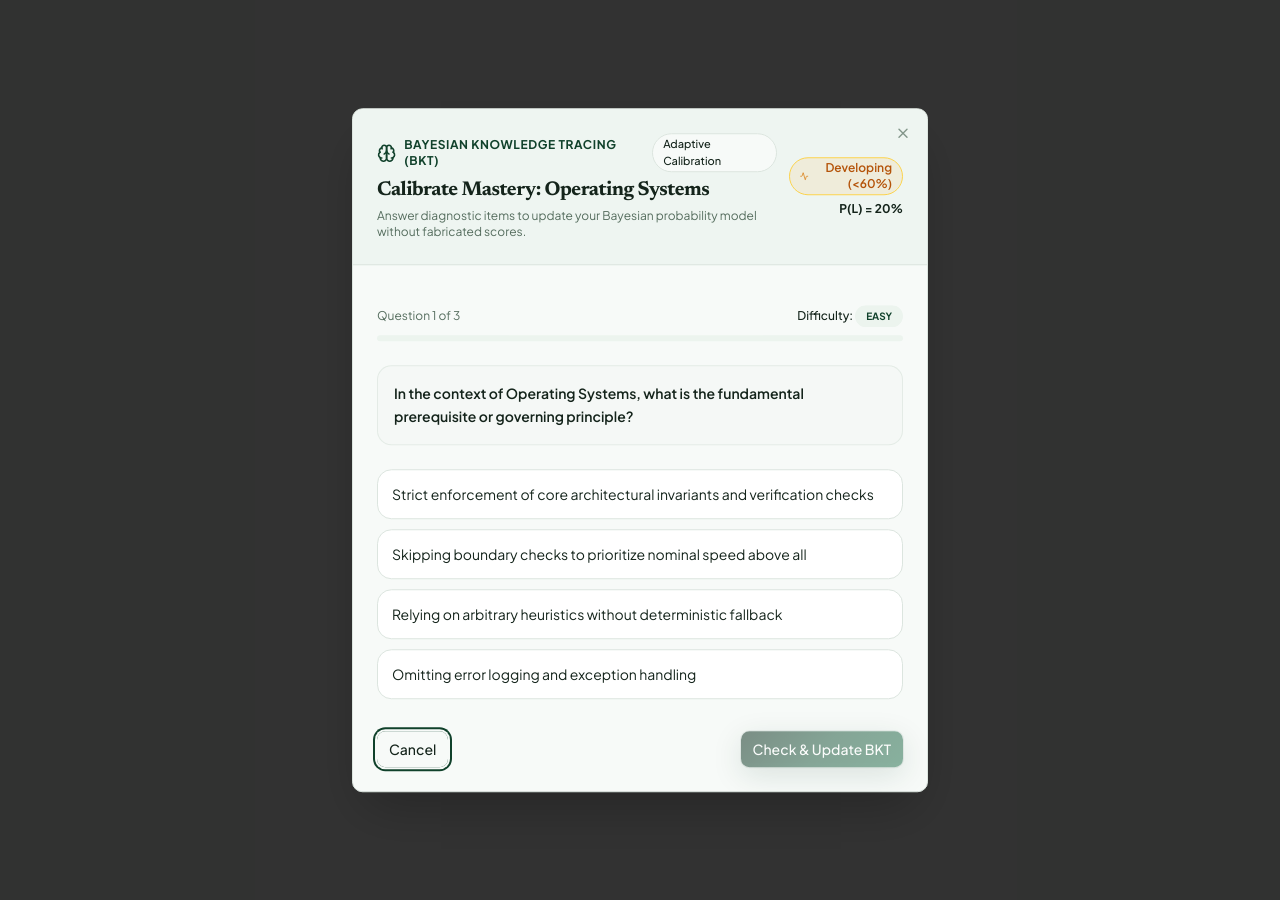
Learning Progress Bayesian Knowledge Tracing (BKT) Integration › SkillBKTQuickAssessmentModal updates Bayesian probability upon answering question
Expected: the text "P(L) = 20%" is shown, 839,201 -> 903,216
// Click first option (correct option in question 1)
What coordinates should you click on to do the following:
click the text "Strict enforcement of core architectural invariants and verification checks"
I would click on:
 (640, 494)
Its box is 392,484 -> 888,504.
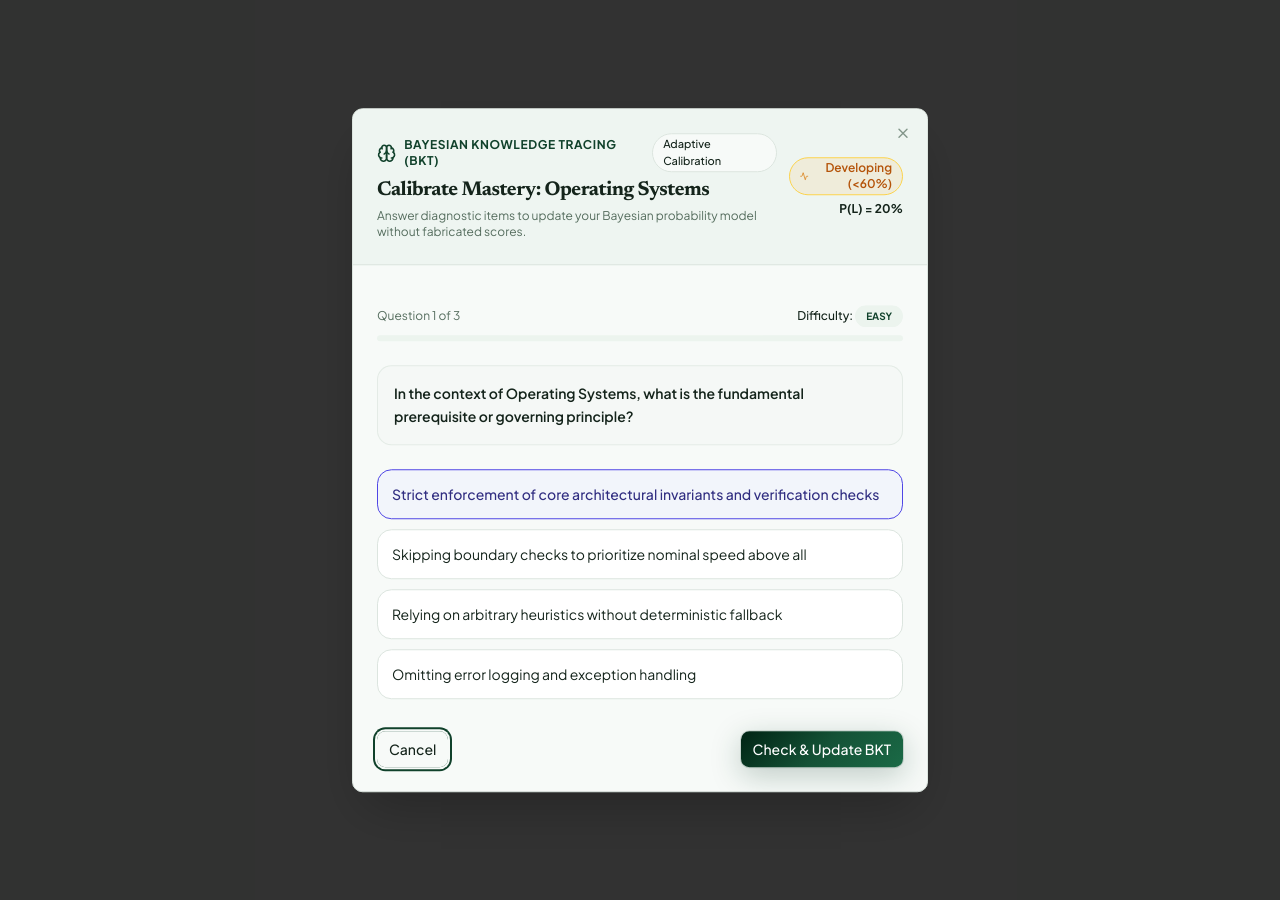
// Click "Check & Update BKT"
What coordinates should you click on to do the following:
click the button "Check & Update BKT"
I would click on:
 (822, 749)
Its box is 741,731 -> 903,767.
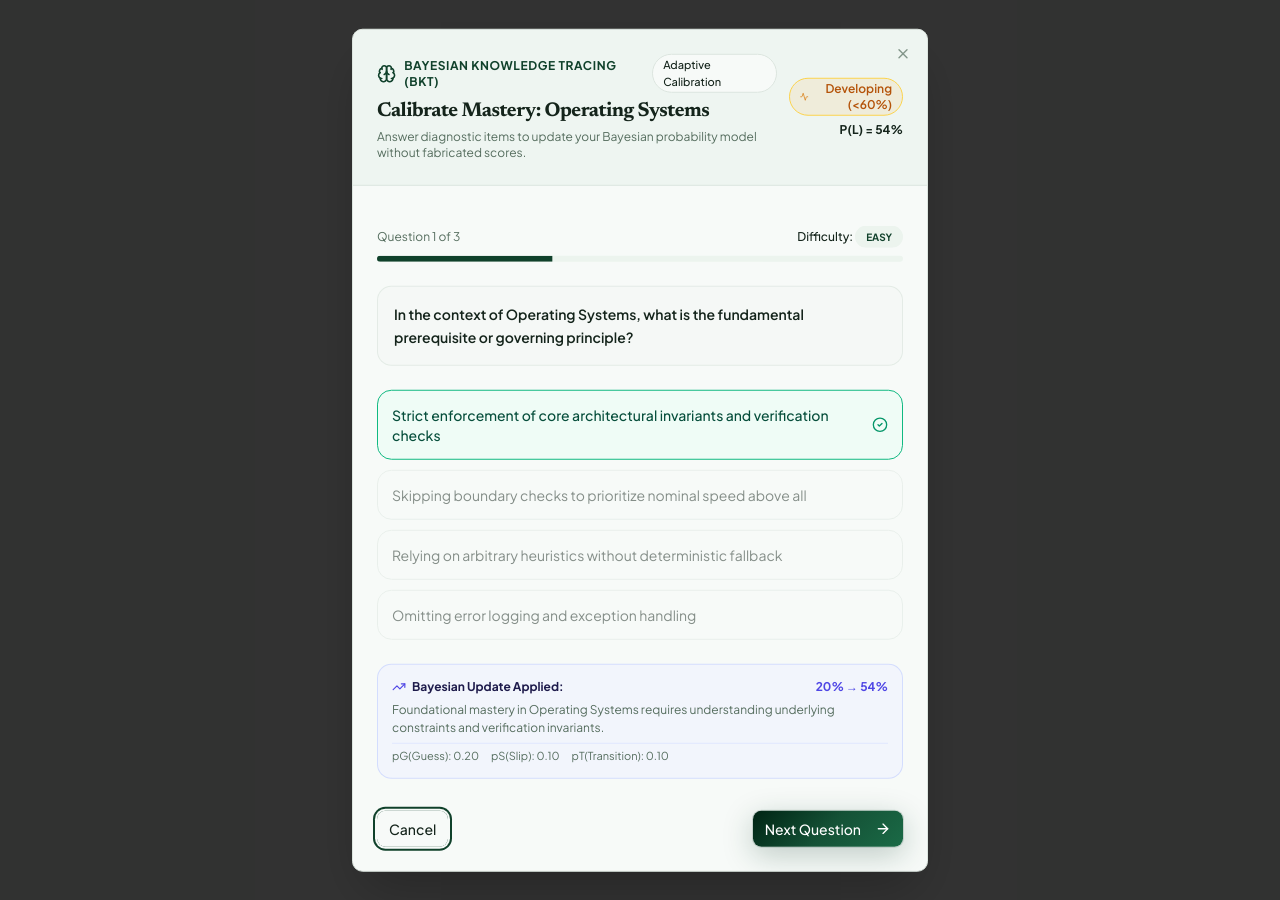
Now the text "Bayesian Update Applied:" is shown, box 392,678 -> 564,694
Now the button "Next Question" is shown, box 753,810 -> 903,846
